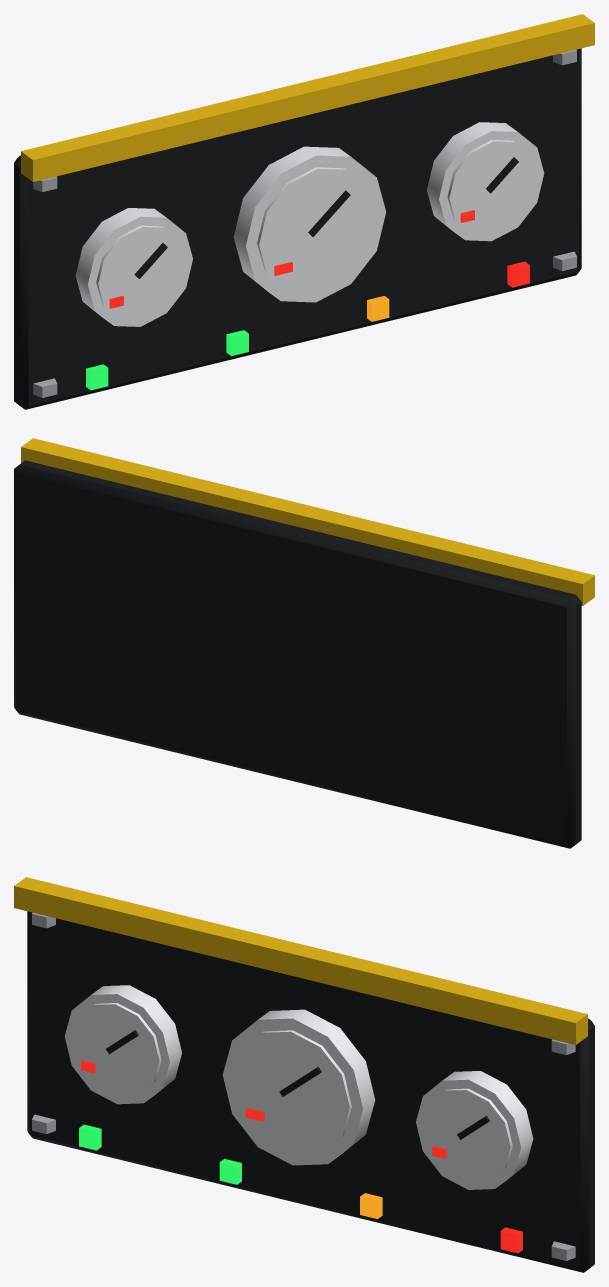
The model's file is valve_gauge_cluster.glb.
The picture shows the model from 3 angles, top to bottom: view 1: azimuth 30°, elevation 25°; view 2: azimuth 150°, elevation 25°; view 3: azimuth 330°, elevation 25°; orthographic projection.
Parts seen in each view (by area): view 1: valve_gauge_cluster; view 2: valve_gauge_cluster; view 3: valve_gauge_cluster.
Boxes of the visible parts, x1,y1,x2,y2 form: valve_gauge_cluster: (14,14,594,409); valve_gauge_cluster: (14,438,594,848); valve_gauge_cluster: (14,877,594,1272).
Size of the model in its own units: 0.8 by 0.355 by 0.069.
